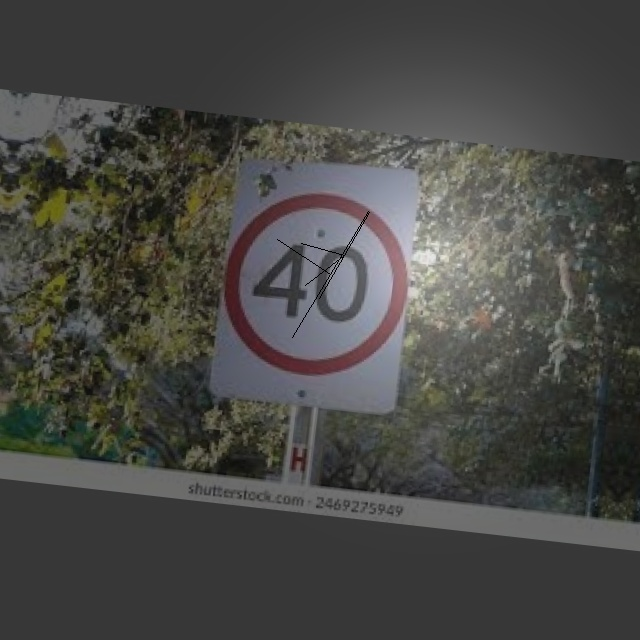Speed_Limit_40: (208, 183, 422, 389)
